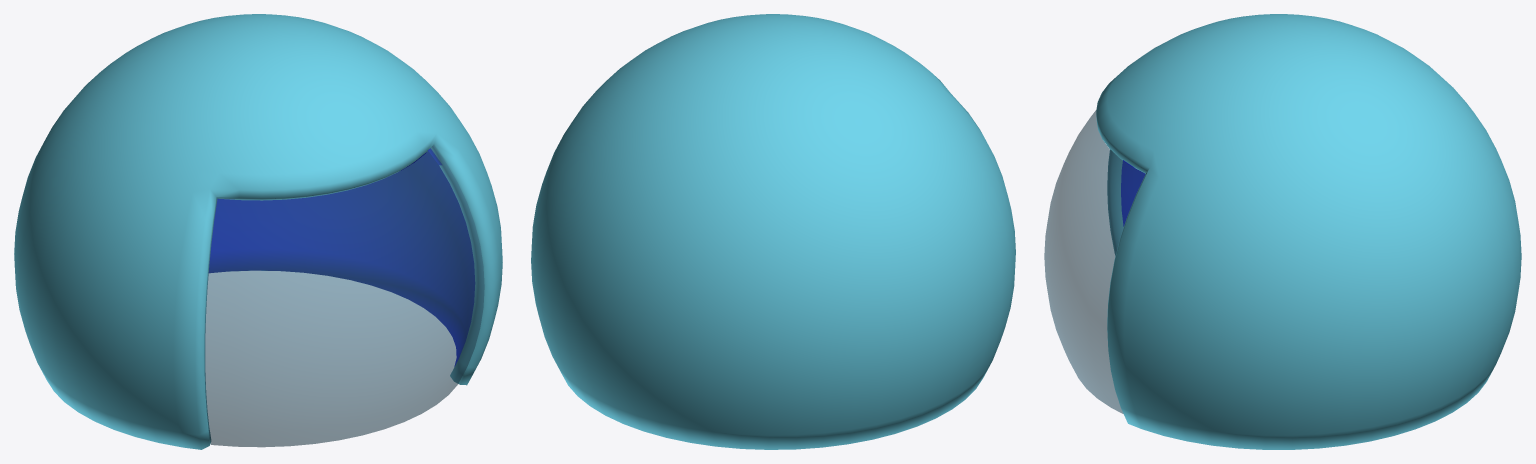
The model's file is CircleHeadOne.glb.
3 renders of one model, left to right at view 1: azimuth 30°, elevation 25°; view 2: azimuth 150°, elevation 25°; view 3: azimuth 270°, elevation 25°, orthographic.
Visible parts, largest first — view 1: Sphere, Sphere.001; view 2: Sphere; view 3: Sphere, Sphere.001.
Part boxes in pixels (<box>): Sphere: <box>14,14,502,449</box>; Sphere.001: <box>204,145,484,447</box>; Sphere: <box>531,14,1015,449</box>; Sphere: <box>1096,14,1521,449</box>; Sphere.001: <box>1044,110,1145,413</box>.
Size of the model in its own units: 2.17 by 1.6 by 2.14.
Materials: 3 (1 with a texture image).
